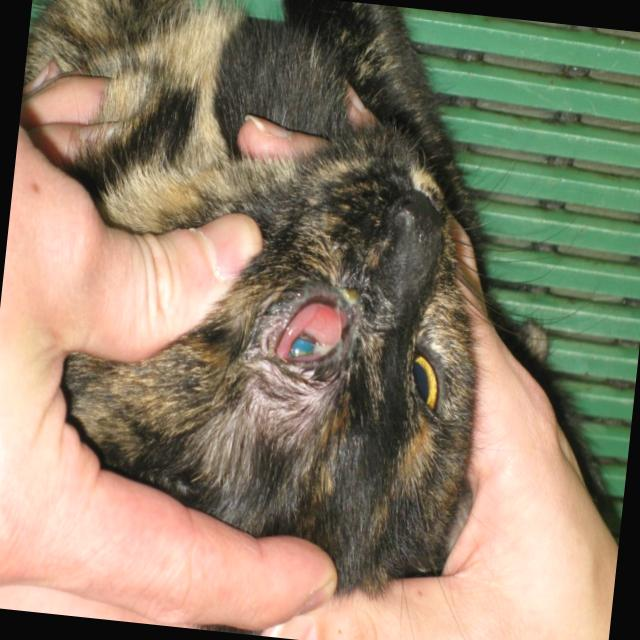cat-eye: (266, 292, 356, 386)
cat-eye-normal: (394, 348, 453, 422)
